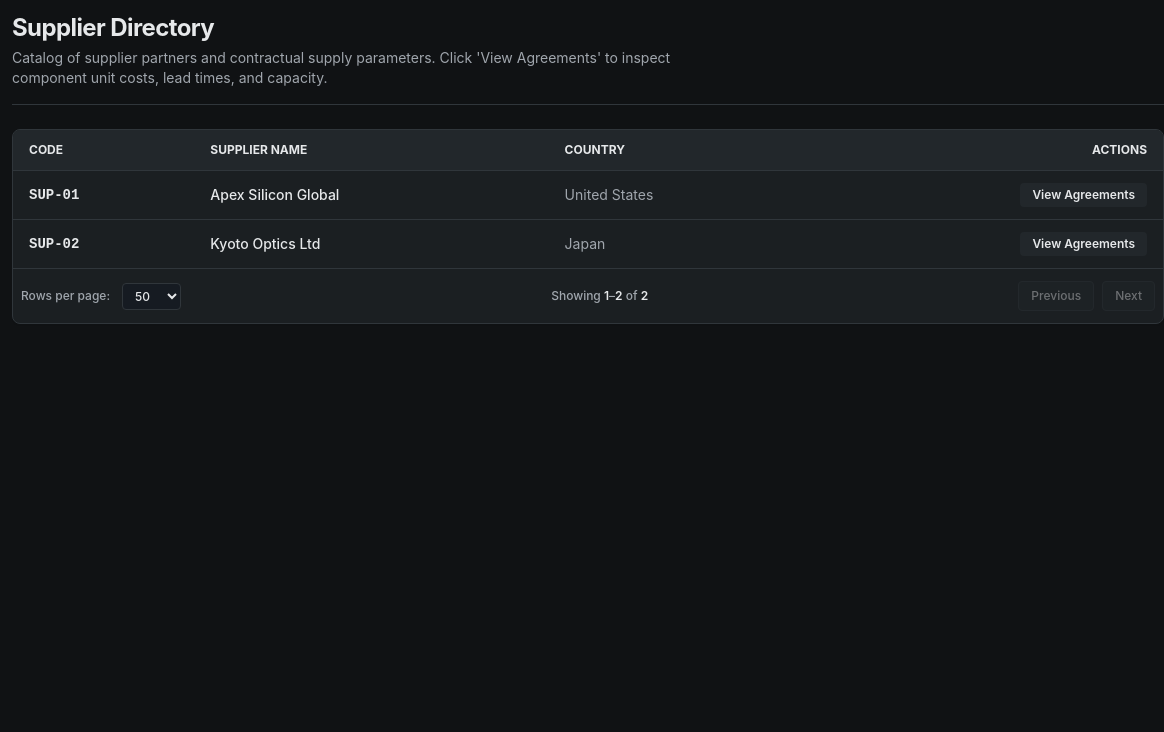
SuppliersPage › renders suppliers table and toggles row expansion with aria-expanded
Expected: the table with test id "suppliers-table" is shown, [13, 130, 1163, 268]
Click the button with test id "toggle-supplier-1" at (1084, 195), box [1020, 183, 1147, 207]
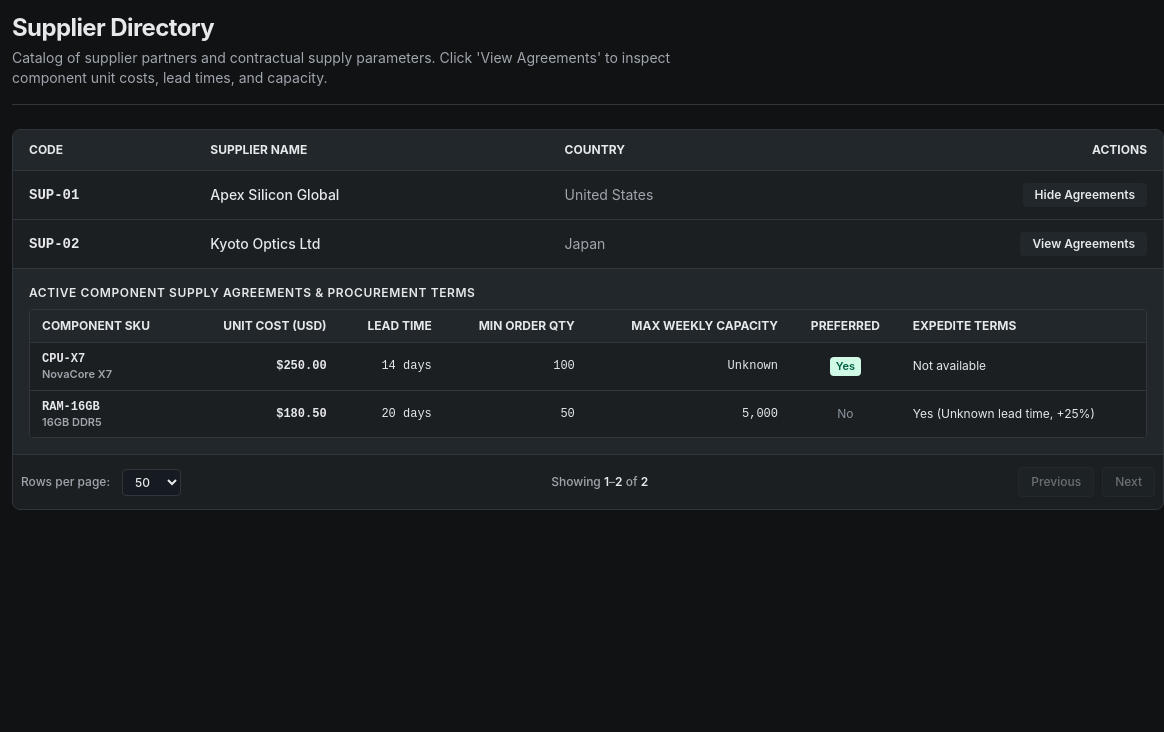
Expected: the button with test id "toggle-supplier-1" is expanded
Expected: the element with test id "offers-table-1" is shown, [29, 285, 1147, 438]
Expected: the cell with test id "capacity-101" reads "Unknown", [728, 359, 778, 373]
Click the button with test id "toggle-supplier-1" at (1085, 195), box [1023, 183, 1147, 207]
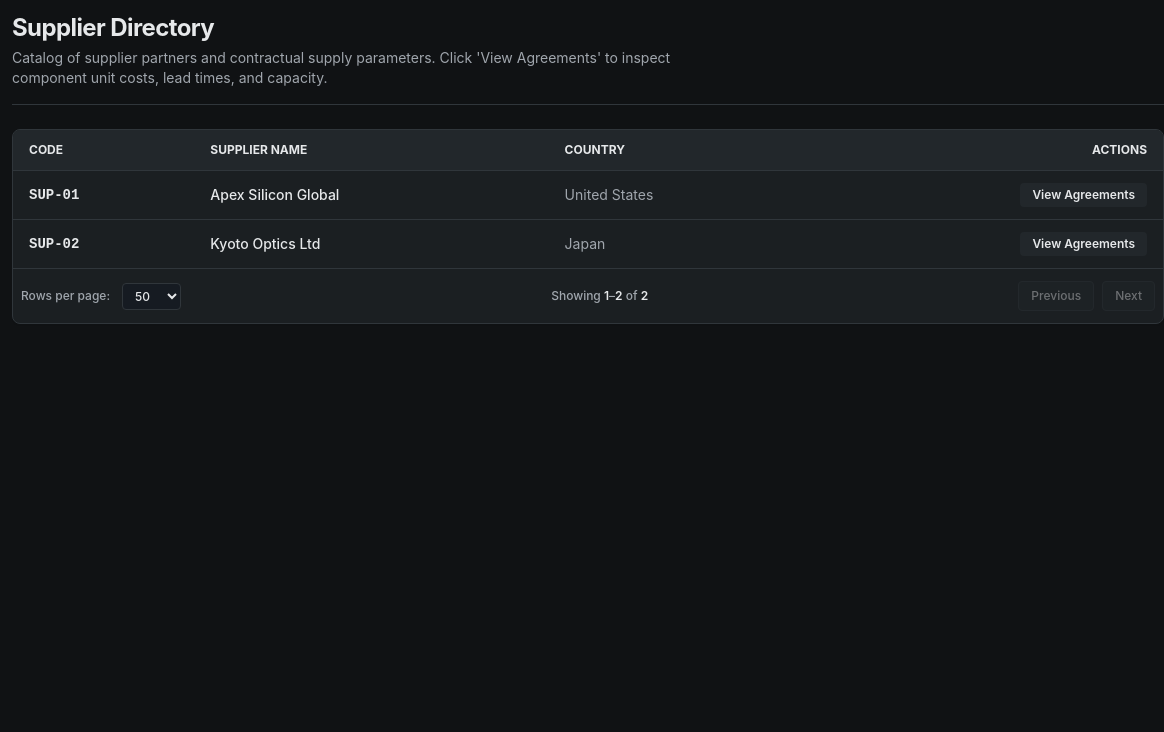
Expected: the button with test id "toggle-supplier-1" is collapsed, [1020, 183, 1147, 207]
